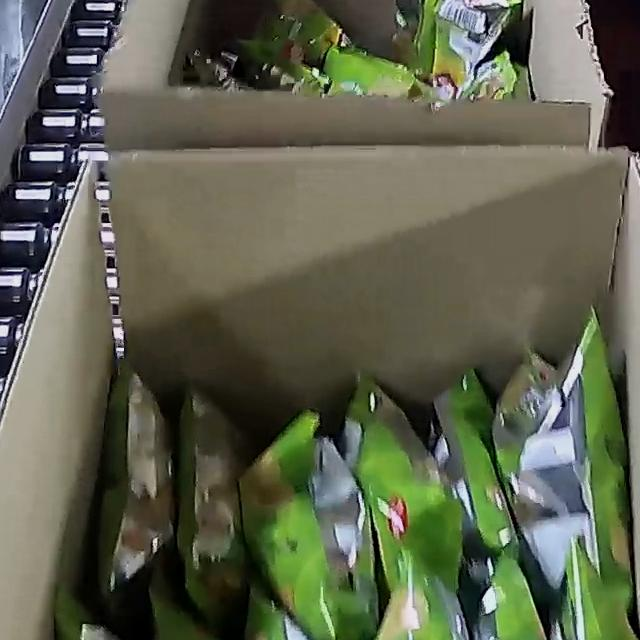yogurt: (49, 308, 640, 640), (205, 0, 548, 115)
